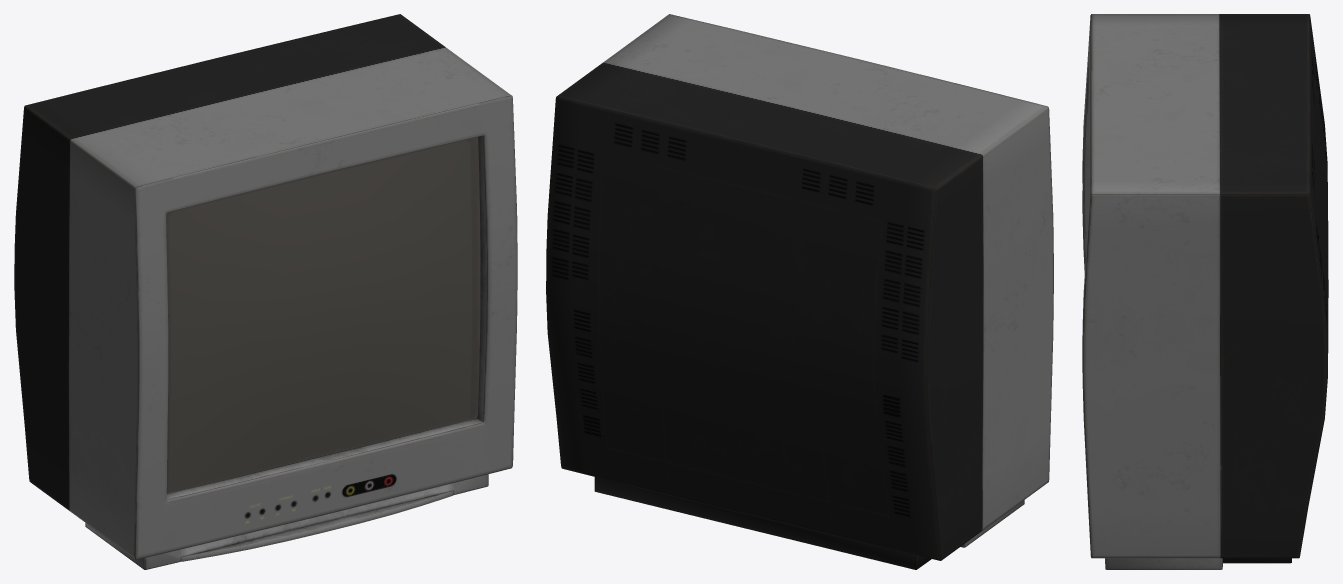
The picture shows the model from 3 angles, left to right: view 1: azimuth 30°, elevation 25°; view 2: azimuth 150°, elevation 25°; view 3: azimuth 270°, elevation 25°; orthographic projection. The views are drawn at different scales.
Parts seen in each view (by area): view 1: Plane003, Plane002, Plane001; view 2: Plane003, Plane005; view 3: Plane003, Plane001, Plane005.
Boxes of the visible parts, x1,y1,x2,y2 form: Plane003: [14, 14, 517, 559]; Plane002: [166, 137, 480, 493]; Plane001: [85, 474, 488, 569]; Plane003: [546, 14, 1053, 560]; Plane005: [594, 477, 931, 569]; Plane003: [1082, 14, 1328, 558]; Plane001: [1105, 558, 1222, 569]; Plane005: [1223, 558, 1291, 563].
Size of the model in its own units: 1.96 by 1.94 by 1.12.
